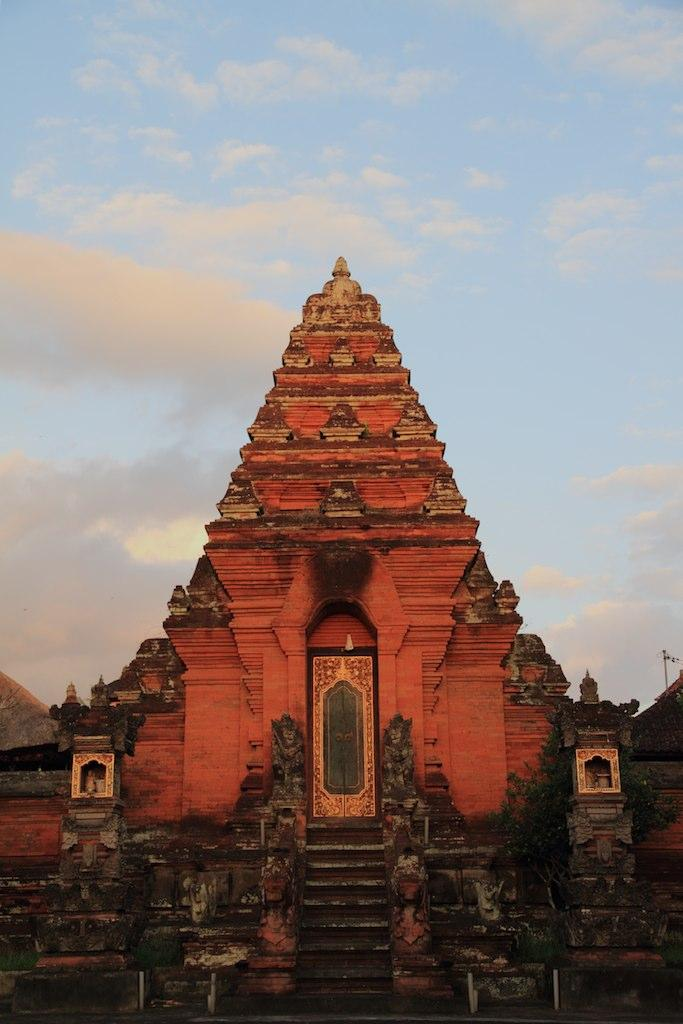temple: (6, 253, 681, 1016)
